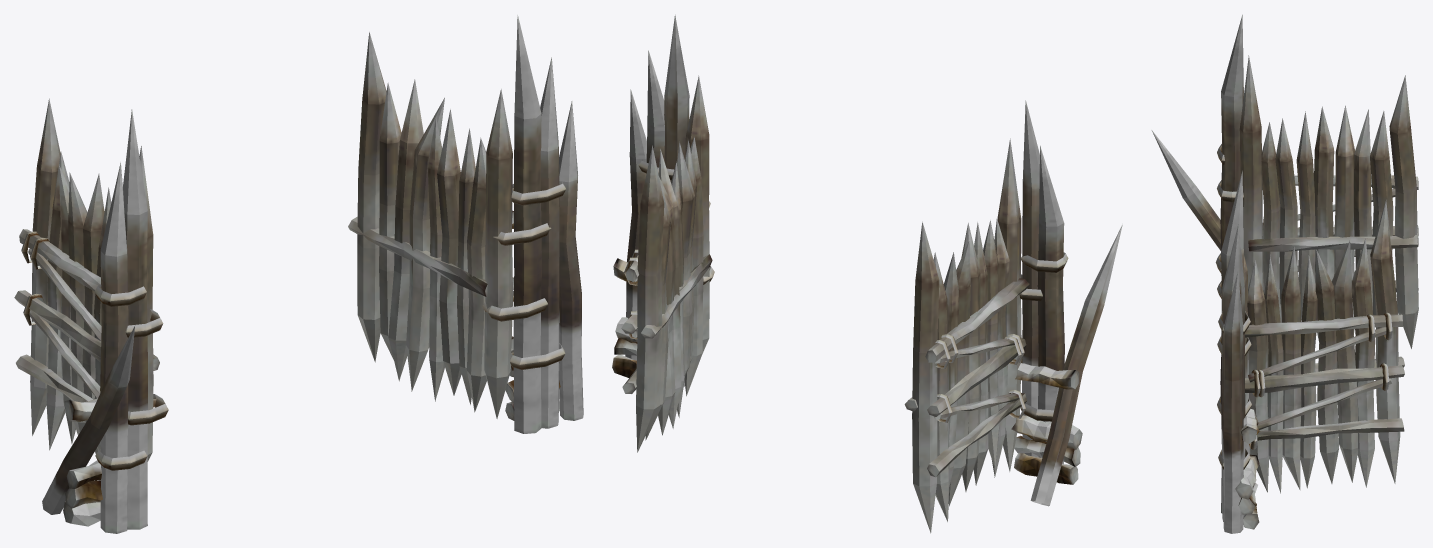
3 renders of one model, left to right at view 1: azimuth 30°, elevation 25°; view 2: azimuth 150°, elevation 25°; view 3: azimuth 270°, elevation 25°, orthographic. The views are drawn at different scales.
Parts seen in each view (by area): view 1: Box01; view 2: Box01; view 3: Box01.
Part boxes in pixels (left/top/right/bottom): Box01: left=14, top=15, right=583, bottom=533; Box01: left=612, top=14, right=1122, bottom=533; Box01: left=1151, top=14, right=1418, bottom=533.
Size of the model in its own units: 6.98 by 5.45 by 3.85.
